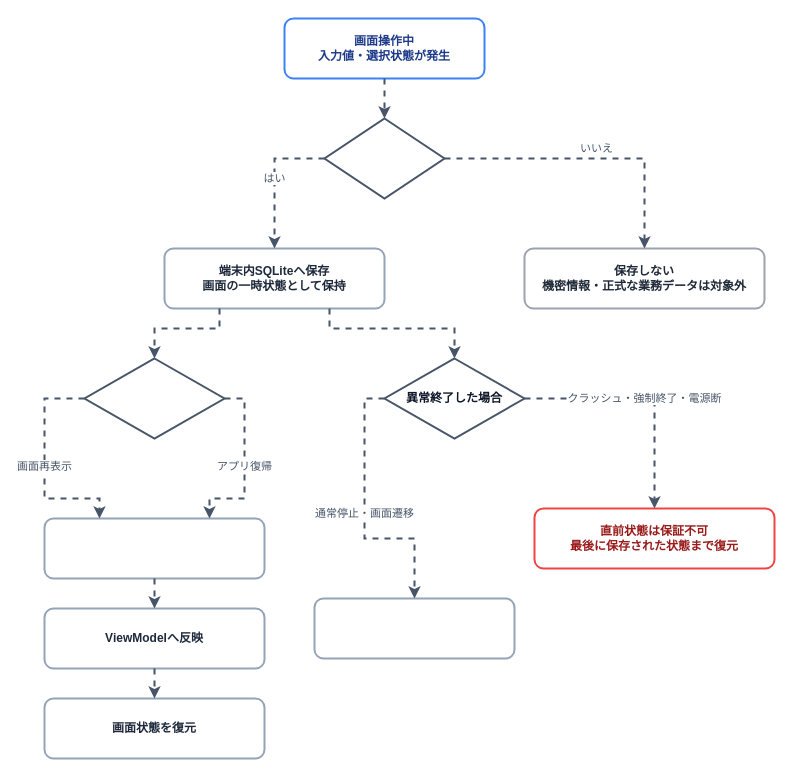
Some shapes in this 793 by 776 pixel diagram are drawn without their labels. The shapes that lost their labels are listed below. From the top down, each one's box as (x1, y1, x2, y2) in pixels, then its label:
(323, 117, 445, 199): 保存対象か？
(83, 357, 225, 439): 復元契機が発生？
(43, 517, 265, 579): 保存済み状態を読み込み
(313, 597, 515, 659): 保存済み状態を復元可能
